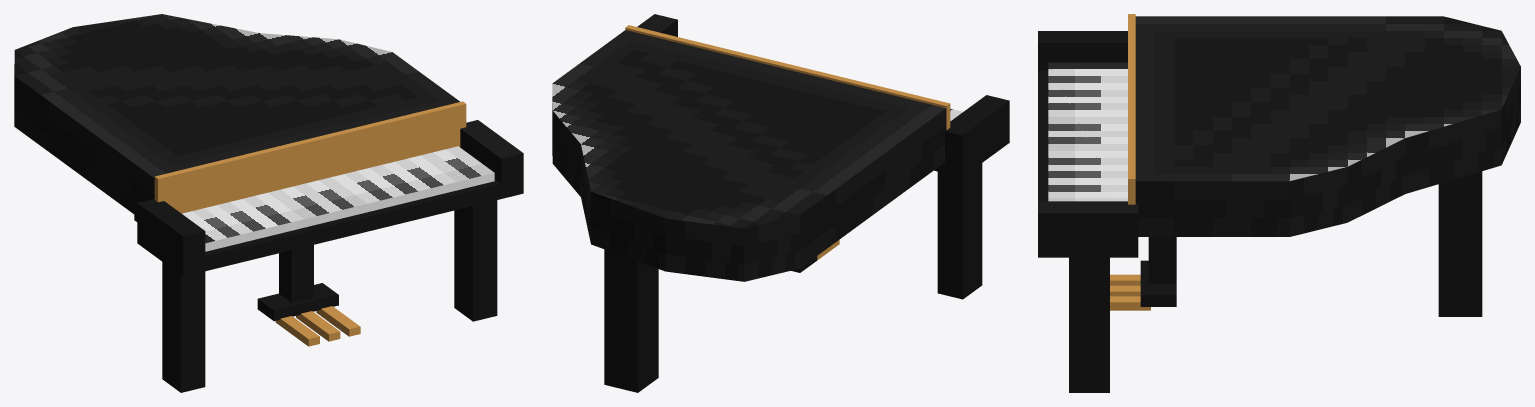
The model's file is piano.glb.
3 views of the same model, side by side, from view 1: azimuth 30°, elevation 25°; view 2: azimuth 150°, elevation 25°; view 3: azimuth 270°, elevation 25° (orthographic). The views are drawn at different scales.
Visible parts, largest first — view 1: Piano_Soundboard, Piano_Base, Keyboard_Gold_Rail, Keyboard, Pedal_Lyre, Pedal.002, Pedal.001, Pedal; view 2: Piano_Soundboard, Piano_Base, Keyboard_Gold_Rail; view 3: Piano_Soundboard, Piano_Base, Keyboard, Pedal_Lyre, Keyboard_Gold_Rail, Pedal.002.
Part boxes in pixels (left/top/right/bottom): Piano_Soundboard: left=14, top=14, right=459, bottom=216; Piano_Base: left=134, top=120, right=523, bottom=392; Keyboard_Gold_Rail: left=154, top=101, right=466, bottom=213; Keyboard: left=182, top=146, right=494, bottom=251; Pedal_Lyre: left=257, top=245, right=338, bottom=321; Pedal.002: left=316, top=306, right=360, bottom=336; Pedal.001: left=296, top=311, right=340, bottom=341; Pedal: left=275, top=316, right=319, bottom=346; Piano_Soundboard: left=552, top=30, right=946, bottom=281; Piano_Base: left=604, top=14, right=1009, bottom=392; Keyboard_Gold_Rail: left=625, top=25, right=950, bottom=130; Piano_Soundboard: left=1135, top=16, right=1520, bottom=236; Piano_Base: left=1038, top=31, right=1482, bottom=392; Keyboard: left=1048, top=62, right=1127, bottom=201; Pedal_Lyre: left=1140, top=237, right=1176, bottom=306; Keyboard_Gold_Rail: left=1128, top=14, right=1135, bottom=204; Pedal.002: left=1110, top=296, right=1150, bottom=310.
Size of the model in its own units: 1.68 by 0.91 by 1.88.
1 material, 1 textured.
